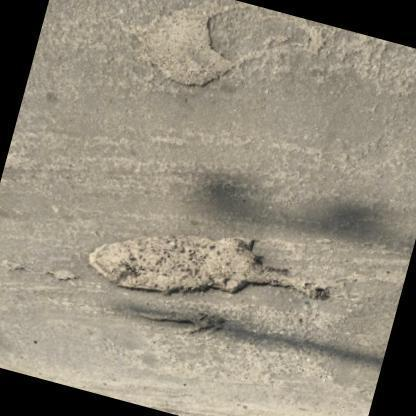pothole: (84, 224, 332, 304), (131, 0, 250, 95)
